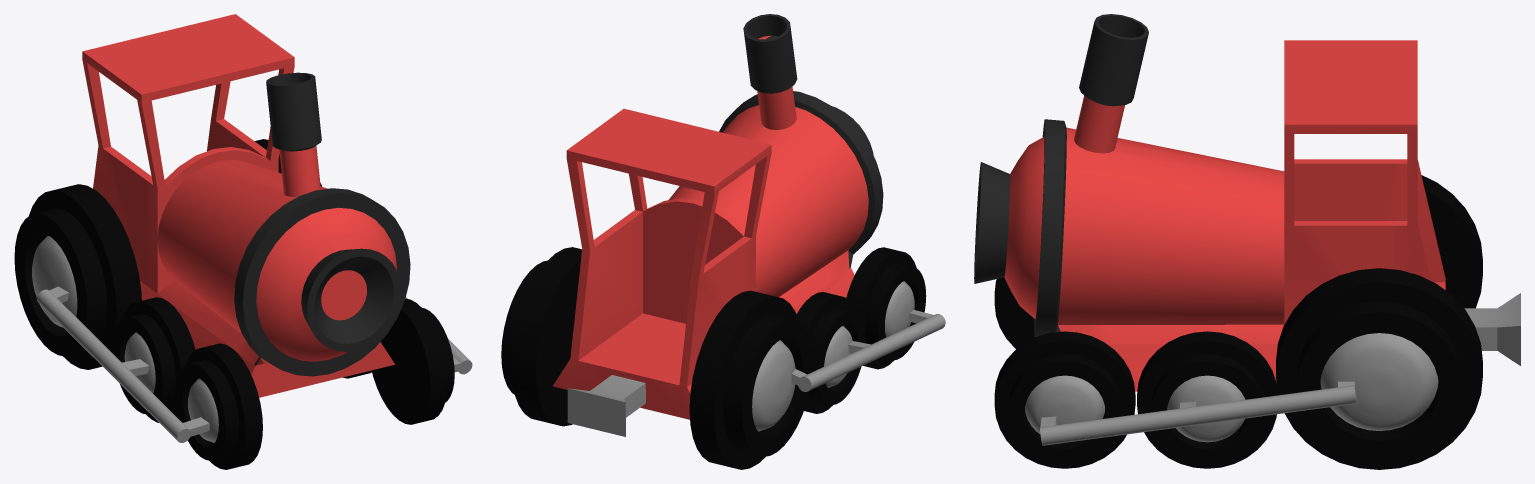
File: Train.fbx
The picture shows the model from 3 angles, left to right: view 1: azimuth 30°, elevation 25°; view 2: azimuth 150°, elevation 25°; view 3: azimuth 270°, elevation 25°; orthographic projection. The views are drawn at different scales.
Visible parts, largest first — view 1: Cylinder.007, Cylinder.002, Cylinder.008, Cylinder.011, Cylinder.006, Cylinder.021; view 2: Cylinder.007, Cylinder.002, Cylinder.009, Cylinder.008, Cylinder.006, Cylinder.021; view 3: Cylinder.007, Cylinder.009, Cylinder.011, Cylinder.010, Cylinder.012, Cylinder.002, Cylinder.008.
Boxes of the visible parts, box(x1,y1,x2,y2) form: Cylinder.007: box(82, 14, 410, 397); Cylinder.002: box(14, 184, 141, 369); Cylinder.008: box(176, 343, 262, 469); Cylinder.011: box(371, 298, 454, 424); Cylinder.006: box(113, 297, 195, 422); Cylinder.021: box(36, 286, 209, 442); Cylinder.007: box(553, 14, 883, 436); Cylinder.002: box(689, 290, 812, 469); Cylinder.009: box(501, 247, 581, 426); Cylinder.008: box(846, 247, 926, 369); Cylinder.006: box(796, 292, 865, 413); Cylinder.021: box(791, 310, 945, 391); Cylinder.007: box(974, 14, 1520, 391); Cylinder.009: box(1276, 268, 1482, 469); Cylinder.011: box(994, 331, 1135, 468); Cylinder.010: box(1137, 331, 1277, 468); Cylinder.012: box(1040, 381, 1357, 445); Cylinder.002: box(1421, 175, 1482, 308); Cylinder.008: box(994, 277, 1035, 349).
Size of the model in its own units: 220 by 247 by 312.
